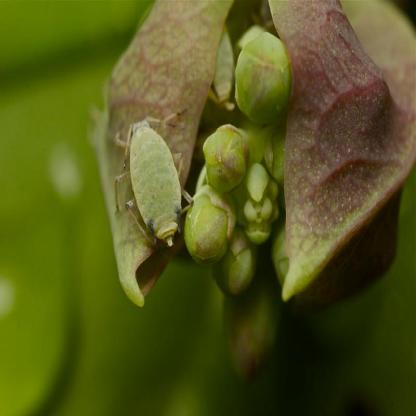aphid: (113, 105, 189, 252)
